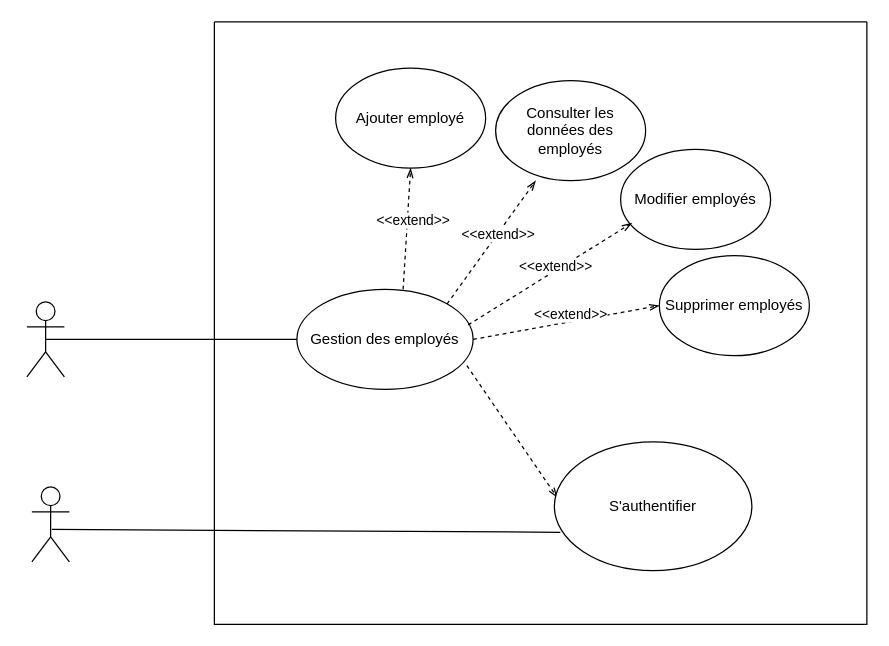
Image size: 889x646. Some labels were removed from this diagram. Here are the shapes that lost their labels. From the top down, the box of each, then its label:
(26, 301, 64, 377): Admin
(31, 486, 69, 562): Employé
